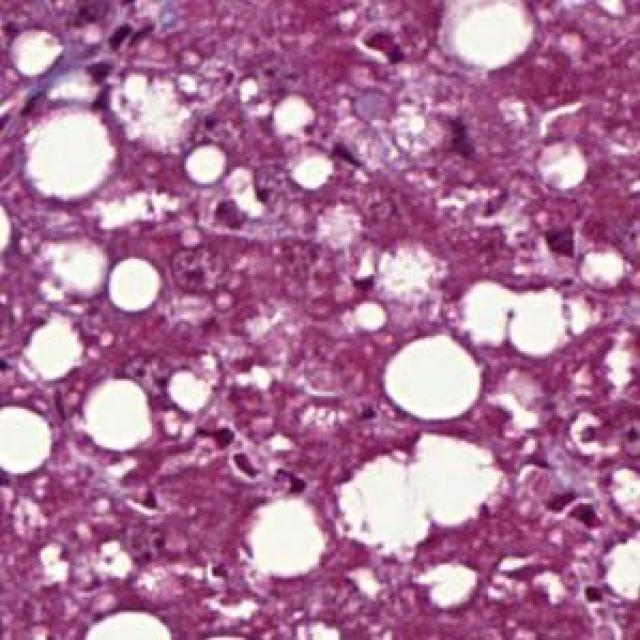ballooning: (330, 430, 514, 570), (19, 98, 122, 205)
